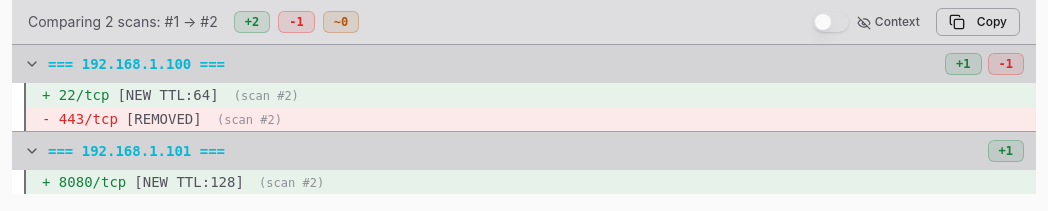
Test: UnifiedDiffView › handles copy action
This screenshot has width=1048, height=211.
# Find the copy button and click it
Click the button "Copy".
click(978, 22)  # box left=936, top=8, right=1020, bottom=36
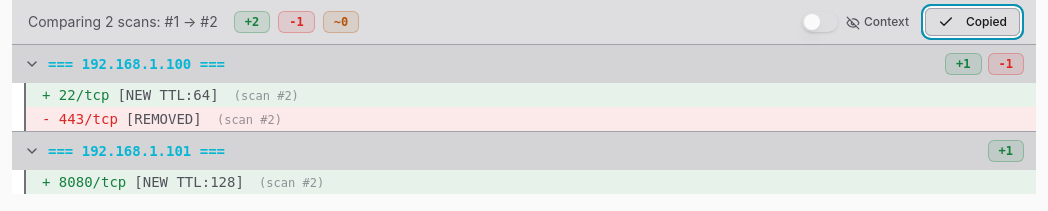
Check: the button "Copied" is shown, box left=925, top=8, right=1020, bottom=36
